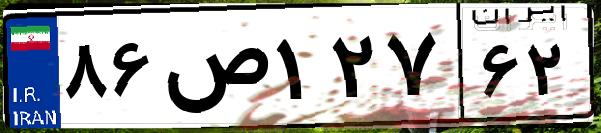1: (270, 28, 330, 110)
2: (330, 28, 385, 110), (525, 38, 570, 115)
6: (475, 38, 525, 113), (110, 28, 158, 98)
7: (385, 28, 445, 110)
8: (57, 26, 110, 100)
ص: (158, 20, 270, 120)
